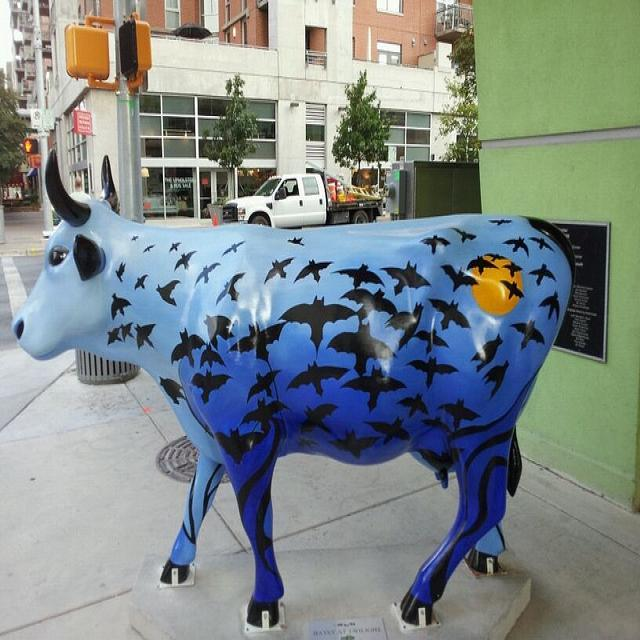cow: (9, 124, 577, 629)
